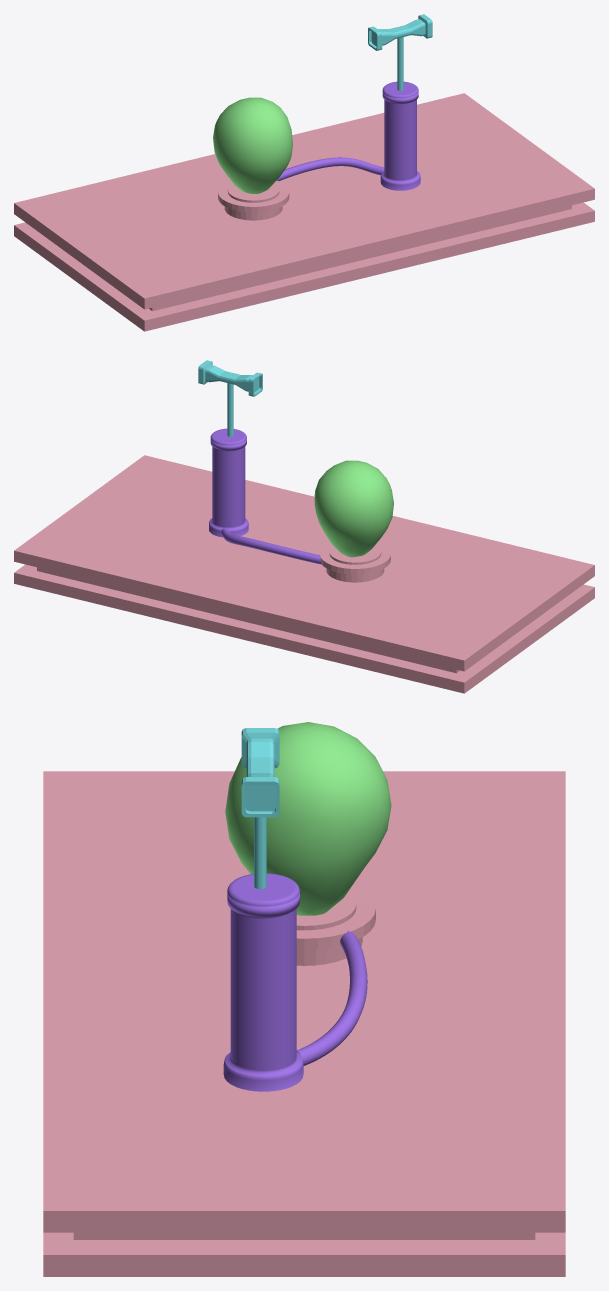
File: BalloonPump.fbx
The picture shows the model from 3 angles, top to bottom: view 1: azimuth 30°, elevation 25°; view 2: azimuth 150°, elevation 25°; view 3: azimuth 270°, elevation 25°; orthographic projection. The views are drawn at different scales.
Parts seen in each view (by area): view 1: Base, Baloon, Pump, Handel; view 2: Base, Baloon, Pump, Handel; view 3: Base, Baloon, Pump, Handel.
Boxes of the visible parts, <box> form: Base: <box>14,93,594,331</box>; Baloon: <box>213,97,292,193</box>; Pump: <box>277,81,420,190</box>; Handel: <box>368,14,432,90</box>; Base: <box>14,455,594,693</box>; Baloon: <box>314,460,393,557</box>; Pump: <box>209,428,321,564</box>; Handel: <box>198,360,262,436</box>; Base: <box>43,771,565,1276</box>; Baloon: <box>225,722,391,915</box>; Pump: <box>223,873,367,1091</box>; Handel: <box>241,728,279,888</box>.
Size of the model in its own units: 399 by 163 by 200.
